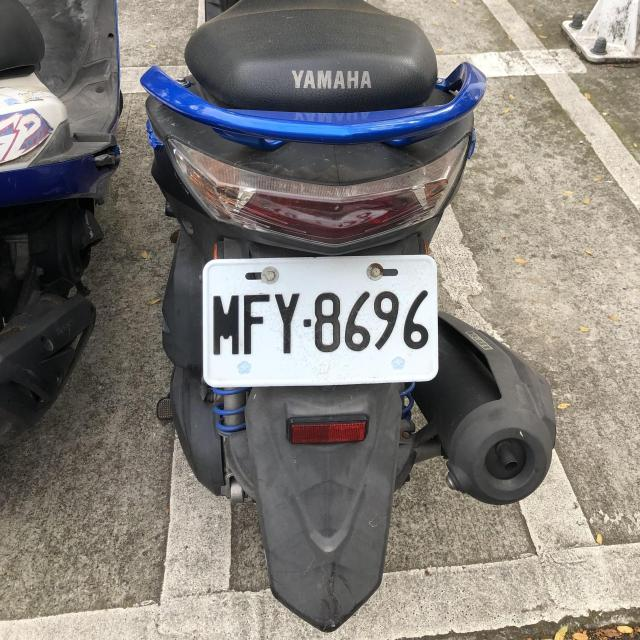W: (198, 250, 436, 387)
